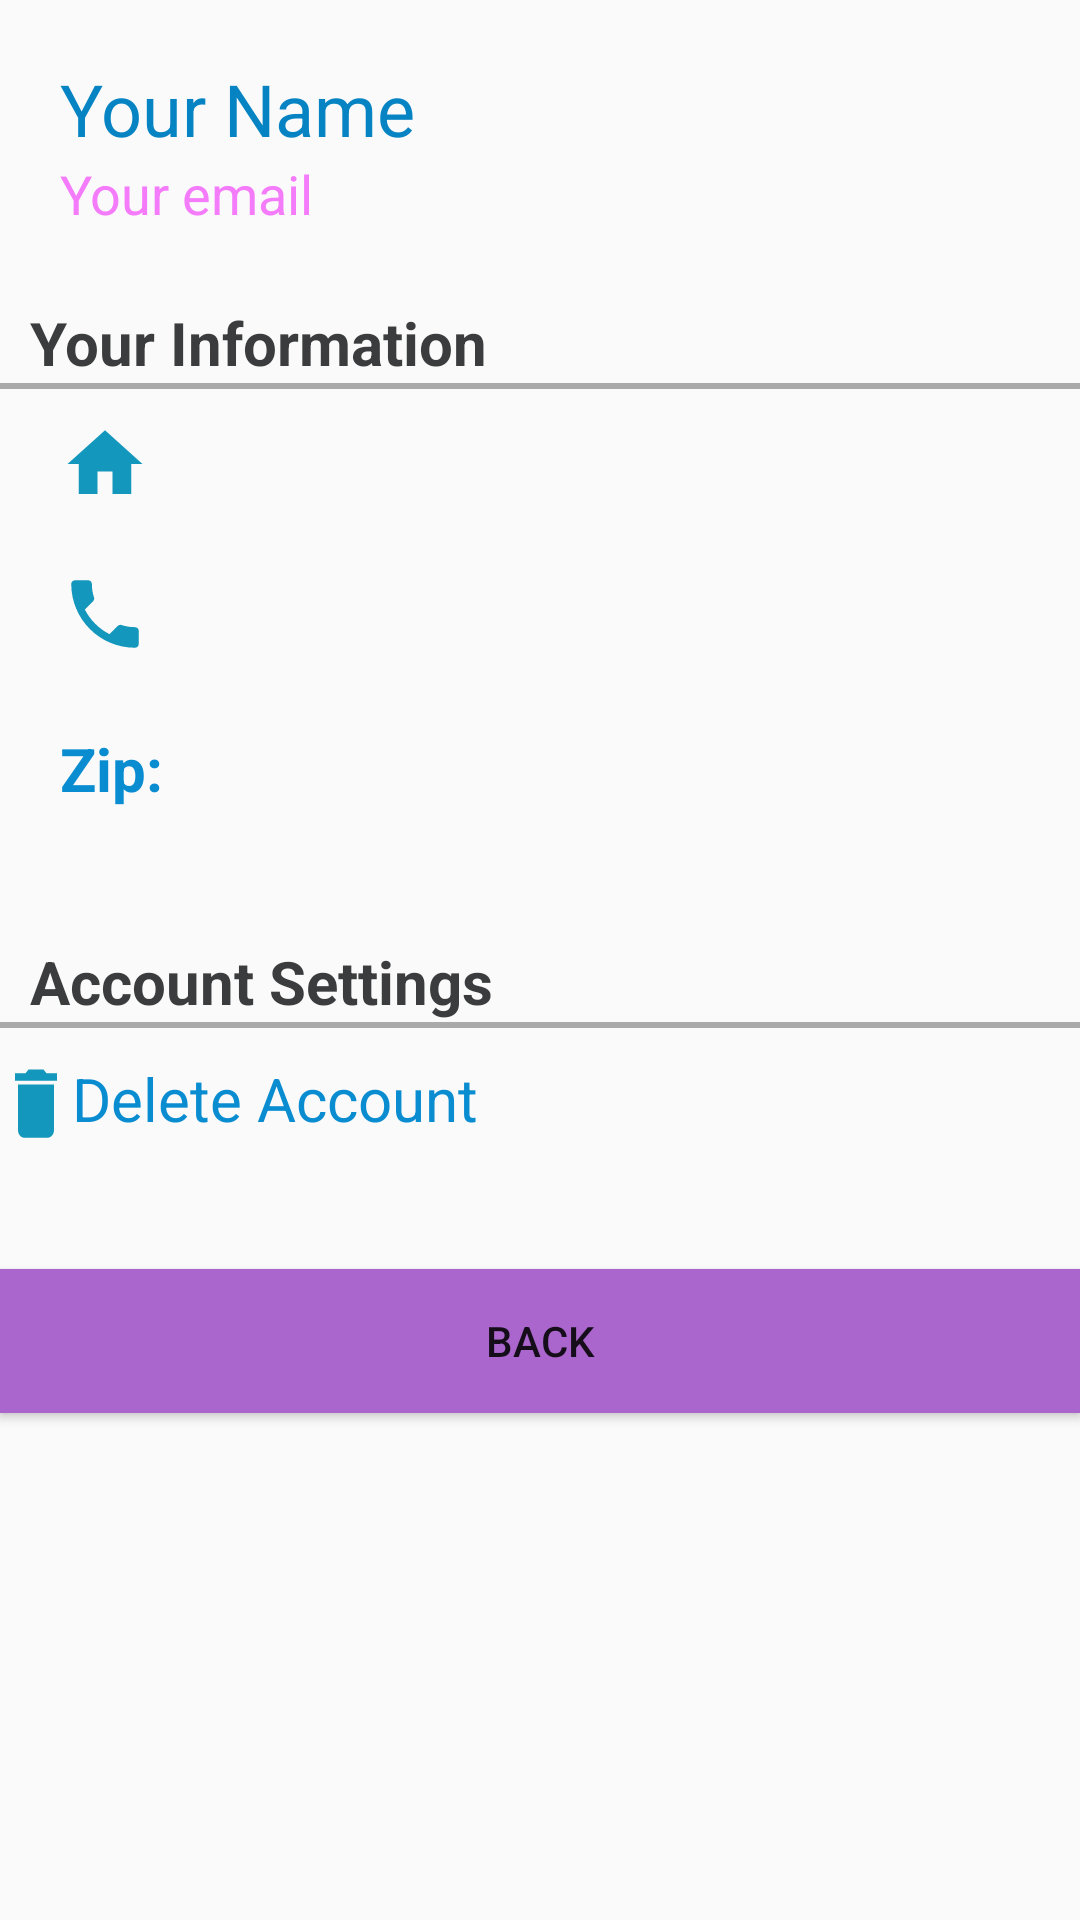

Icons on this 1080x1920 Android screen, each with the point to tap as (x=x, y=y):
home: (x=105, y=462)
phone: (x=105, y=614)
